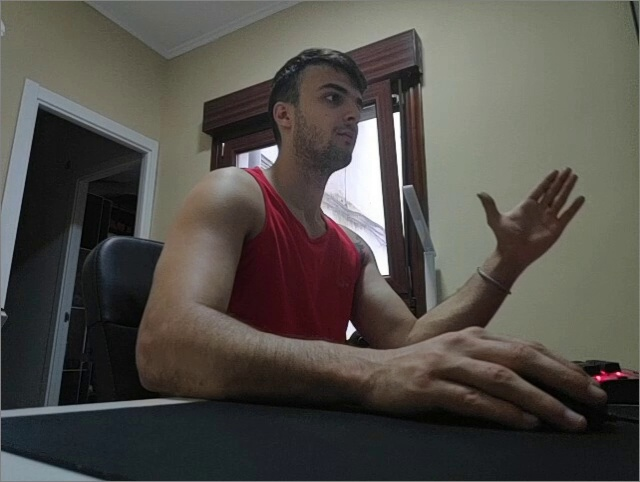Palm: (476, 164, 589, 259)
